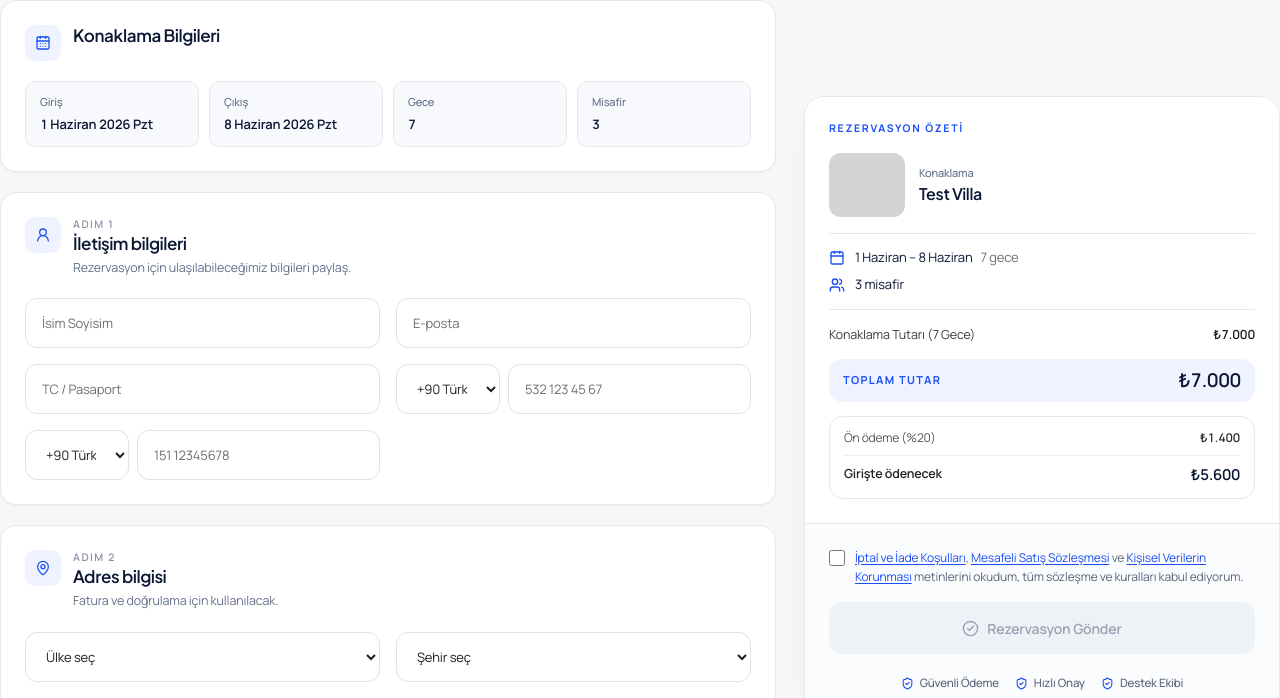
it: 2-3-5) Submit kapısı › 2) checkbox UNCHECKED → gönderim ENGELLENİR (POST yok)
The image size is (1280, 698).
Type "Ahmet Yılmaz" into the field with placeholder "İsim Soyisim" at (202, 323), box [25,298,380,348]
Type "test@example.com" into the field with placeholder "E-posta" at (574, 323), box [396,298,751,348]
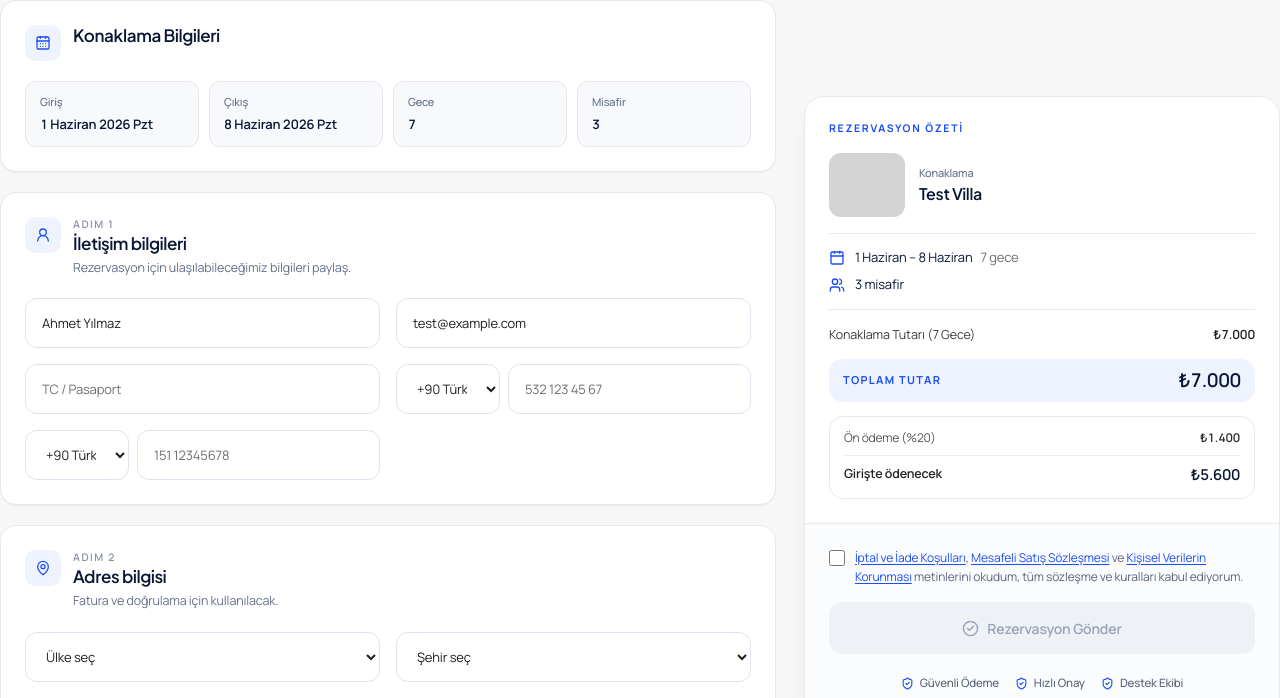
Type "5551112233" into the field with placeholder "532 123 45 67" at (630, 389), box [508,364,751,414]
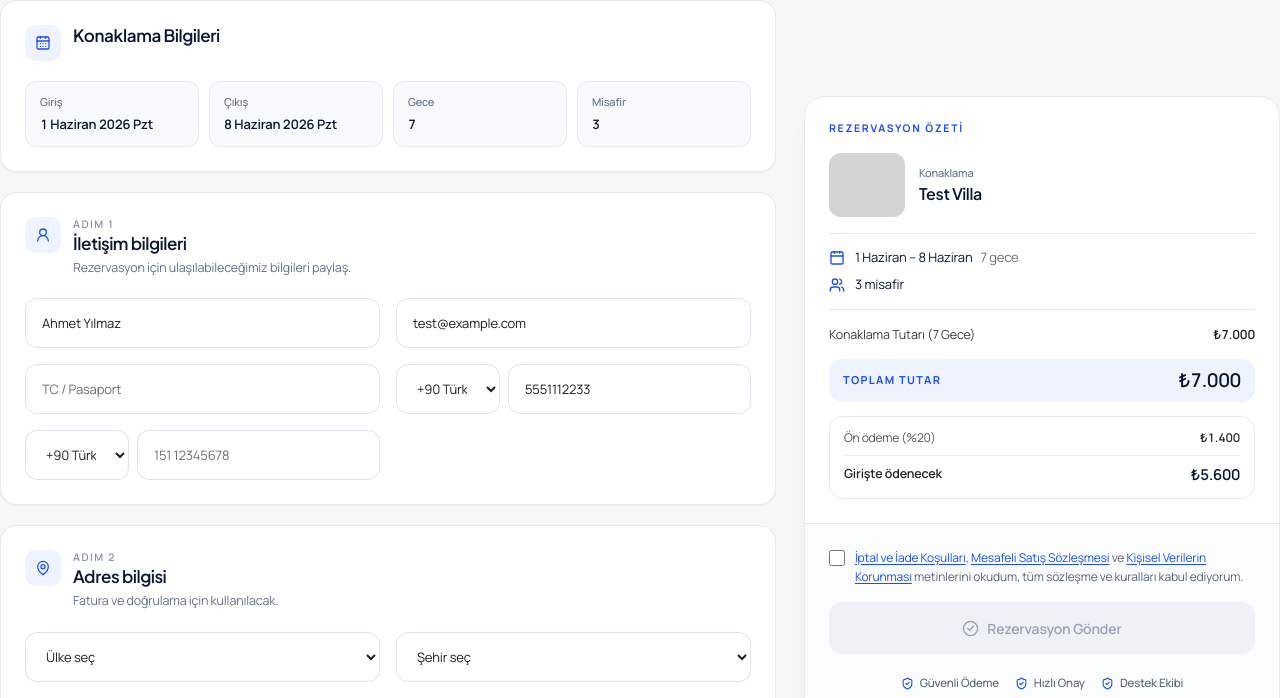
Type "5559998877" into the field with placeholder "151 12345678" at (258, 455), box [137,430,380,480]
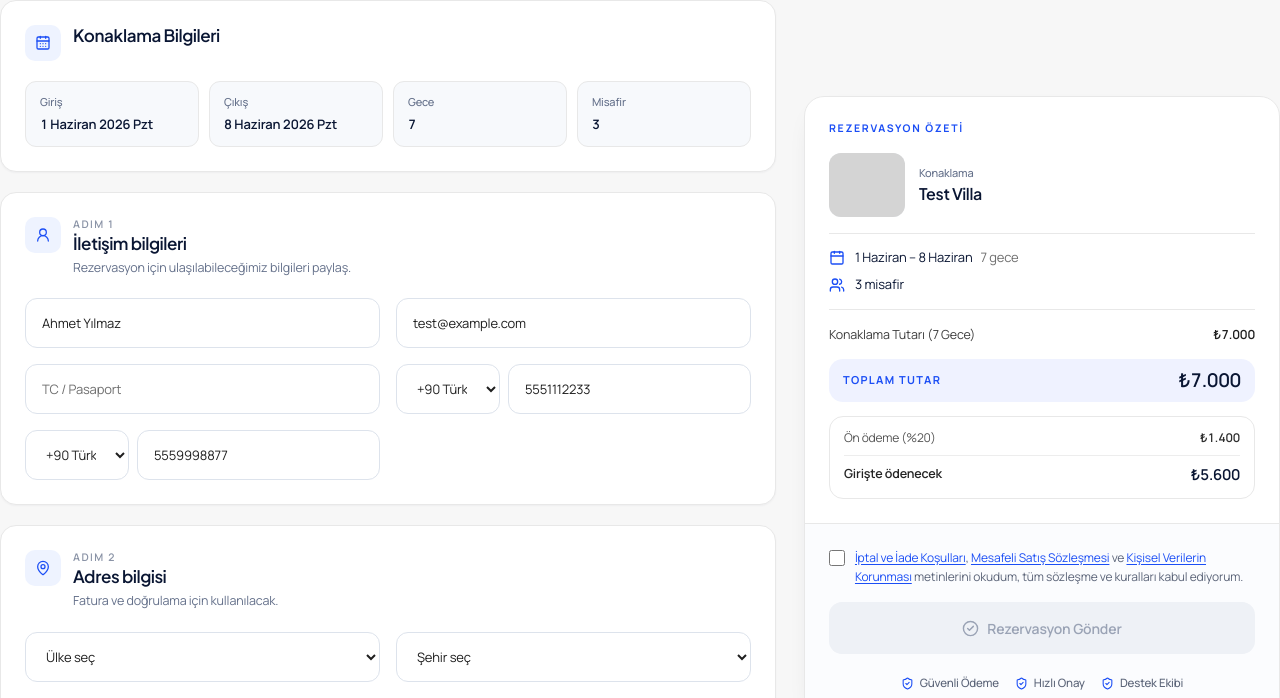
Type "12345678901" into the field with placeholder "TC / Pasaport" at (202, 389), box [25,364,380,414]
(page scrolled)
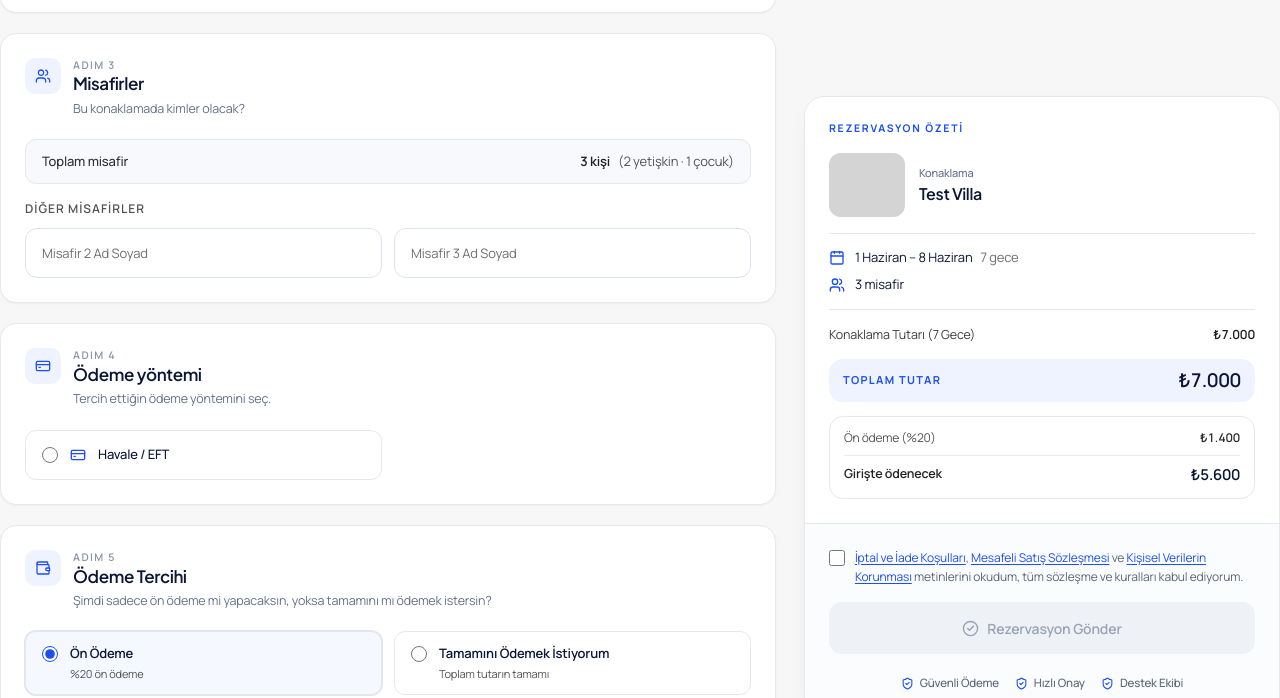
Click the radio button labelled "Havale / EFT" at (50, 455), box [42,447,58,463]
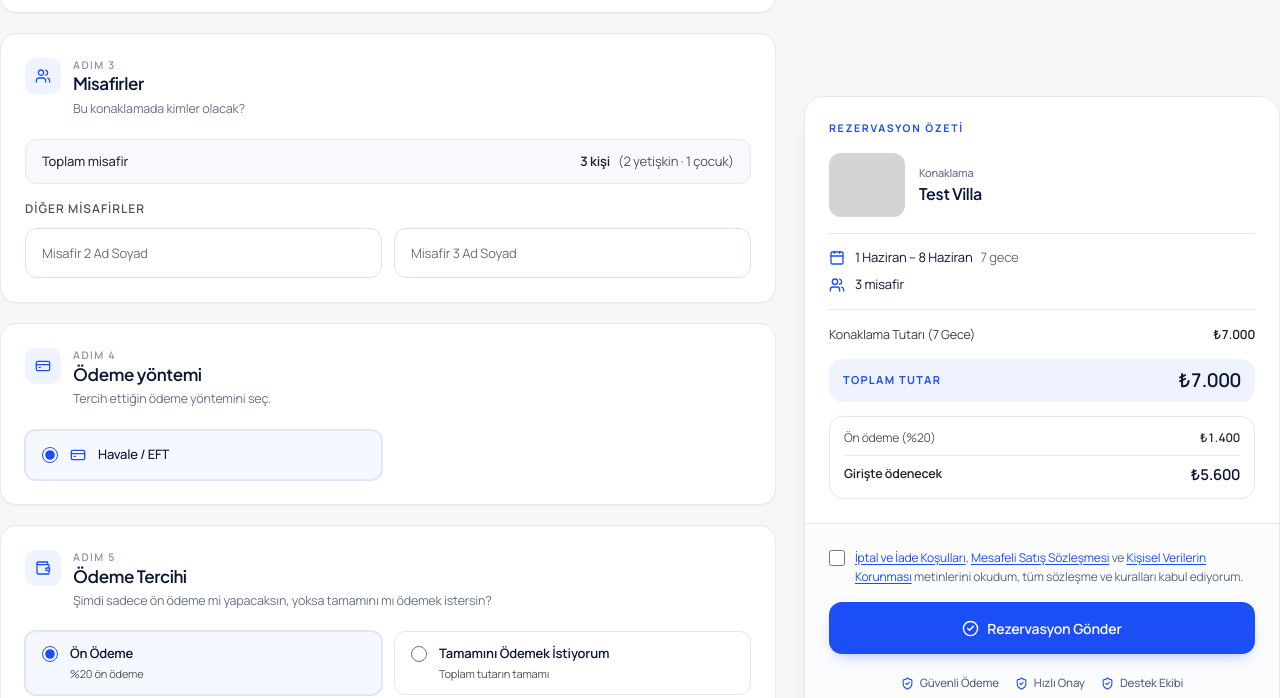
Click the button "Rezervasyon Gönder" at (1042, 628), box [829,602,1255,654]
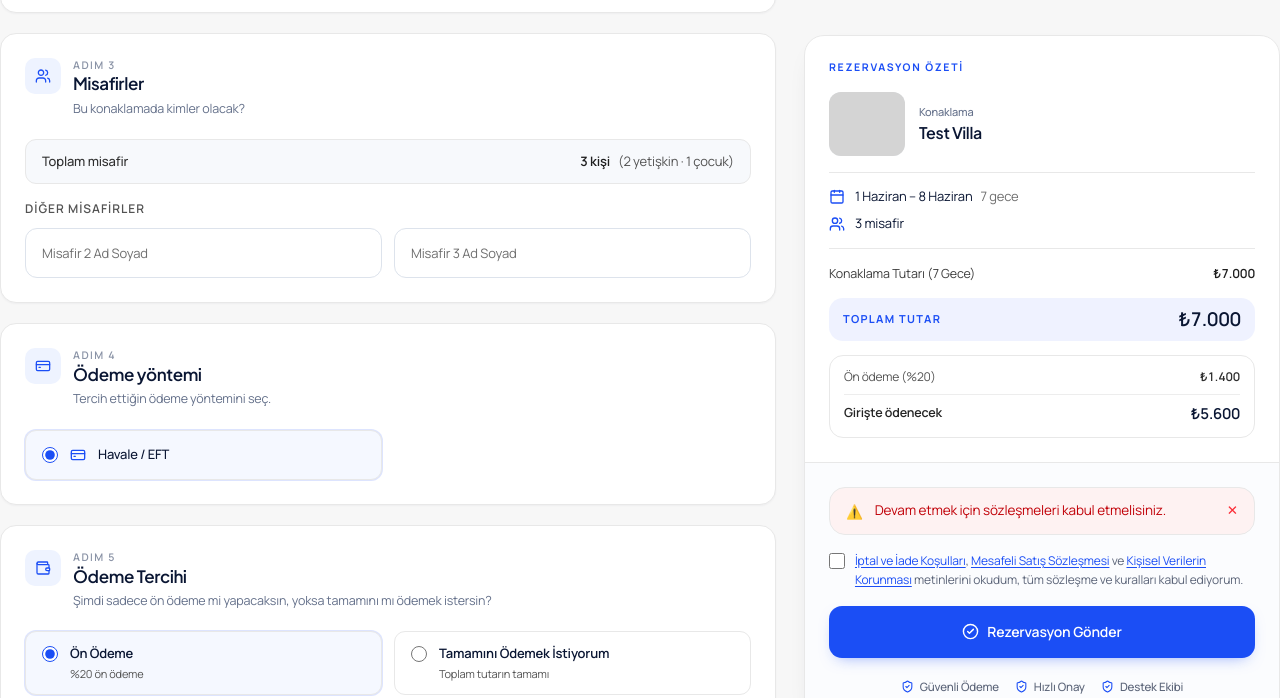
Check: the text "Devam etmek için sözleşmeleri kabul etmelisiniz." is shown, box [875,500,1215,522]
